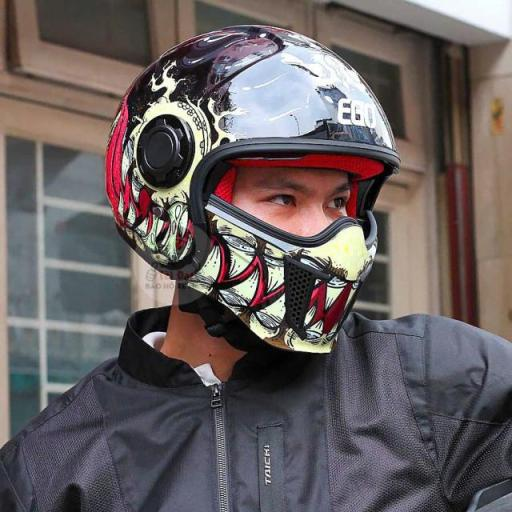with helmet: (64, 12, 436, 360)
